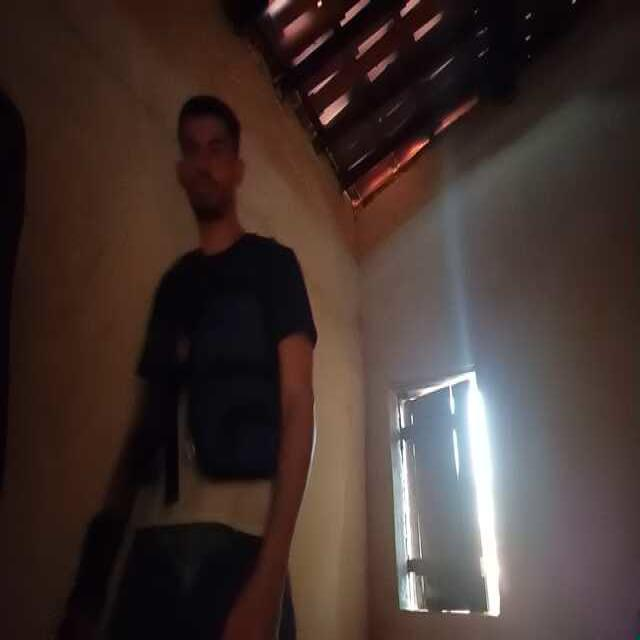colete: (142, 255, 302, 486)
pessoa: (96, 97, 308, 640)
